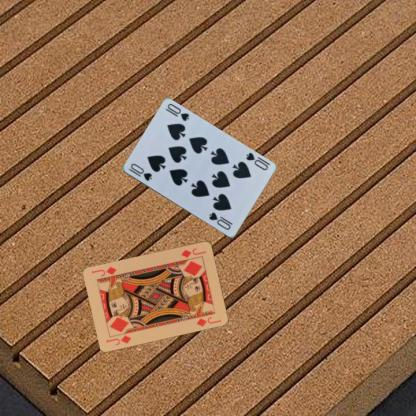10s: (243, 150, 269, 172), (126, 161, 153, 182)
Jd: (178, 245, 208, 259), (104, 332, 132, 347)
